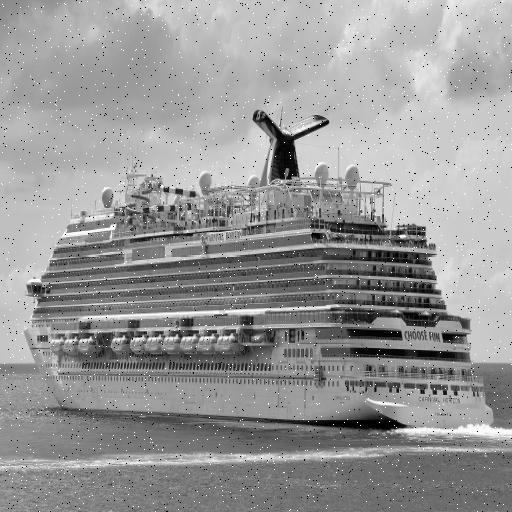cruises: (24, 107, 499, 441)
